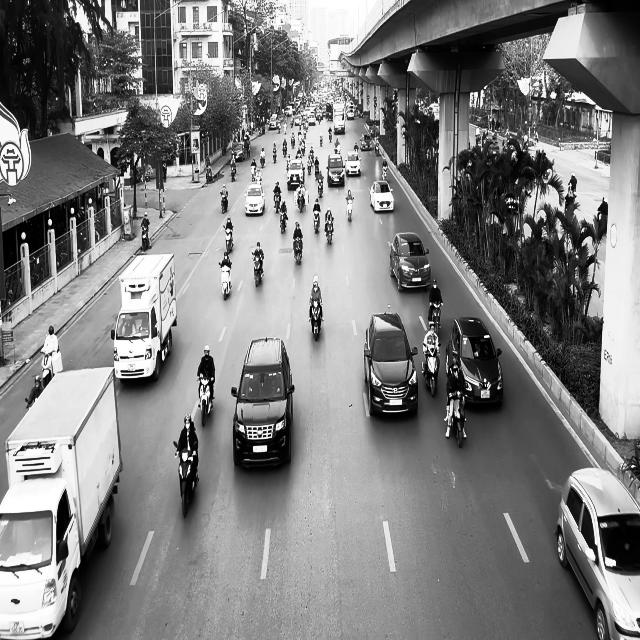car: (554, 466, 640, 640), (231, 336, 294, 469), (363, 310, 418, 416), (446, 316, 504, 407), (389, 232, 431, 292), (370, 180, 394, 212), (244, 182, 265, 215), (326, 154, 345, 186), (286, 159, 304, 189), (345, 151, 361, 176)
motorbike: (173, 440, 199, 518), (445, 389, 467, 448), (421, 341, 441, 397), (197, 374, 214, 425), (218, 259, 232, 300), (309, 299, 322, 341), (251, 251, 264, 287), (428, 301, 442, 334), (224, 225, 234, 253), (324, 218, 334, 244), (293, 237, 302, 265), (141, 224, 150, 251), (279, 210, 288, 233), (220, 191, 228, 213), (313, 209, 320, 234), (346, 198, 353, 221), (230, 164, 236, 182), (382, 164, 388, 181)
truck: (0, 366, 123, 638), (111, 252, 177, 383)
